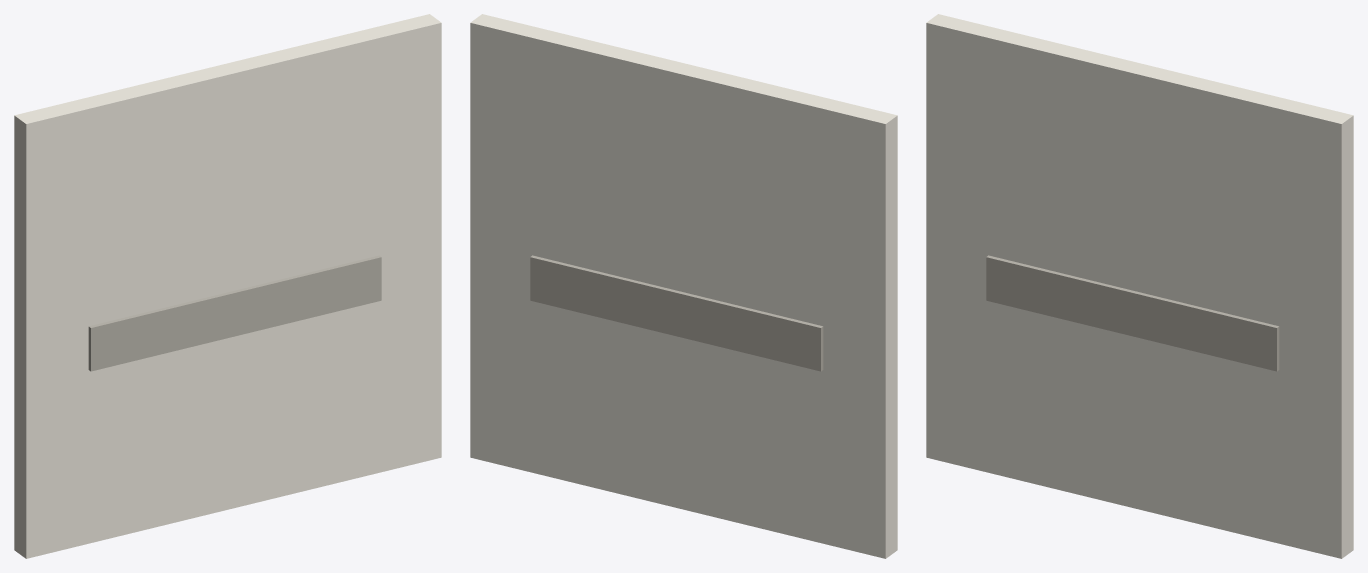
The model's file is receipt_seg.glb.
The picture shows the model from 3 angles, left to right: view 1: azimuth 30°, elevation 25°; view 2: azimuth 150°, elevation 25°; view 3: azimuth 330°, elevation 25°; orthographic projection.
Parts seen in each view (by area): view 1: receipt_seg; view 2: receipt_seg; view 3: receipt_seg.
Part boxes in pixels (<box>): receipt_seg: <box>14,14,441,558</box>; receipt_seg: <box>470,14,897,558</box>; receipt_seg: <box>926,14,1353,558</box>.
Size of the model in its own units: 0.1 by 0.1 by 0.007.
1 material, 1 textured.
